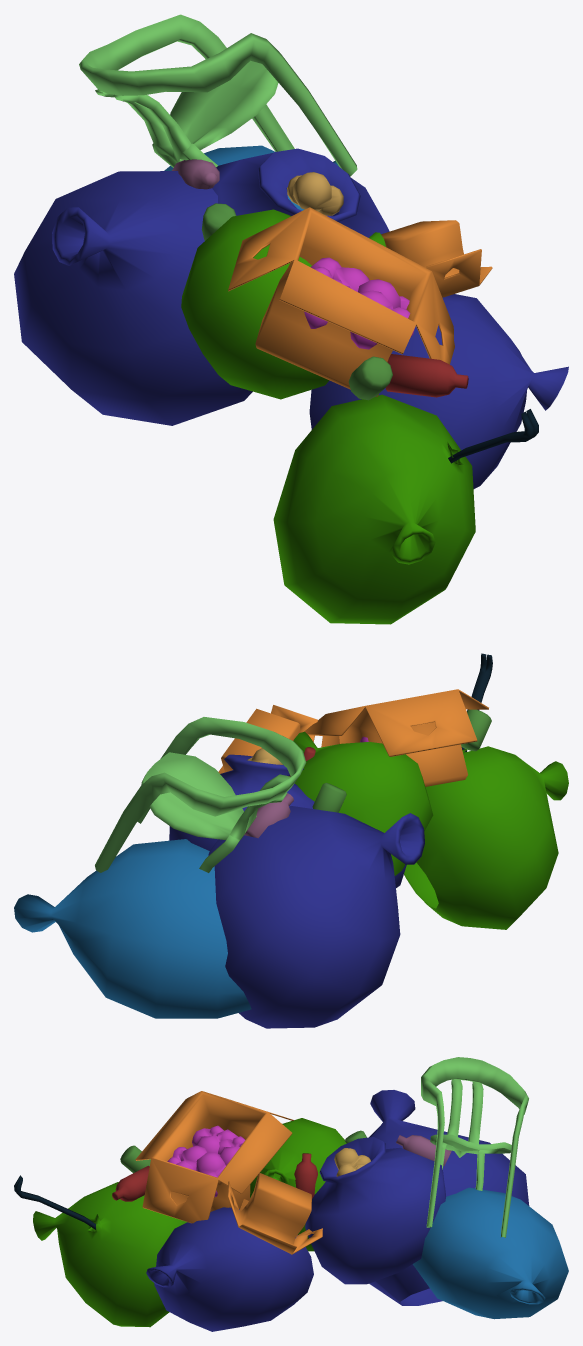
Rendered from Homebase.fbx.
3 views of the same model, one above another, from view 1: azimuth 30°, elevation 25°; view 2: azimuth 150°, elevation 25°; view 3: azimuth 270°, elevation 25° (orthographic). The views are drawn at different scales.
Parts seen in each view (by area): view 1: Cube.002; view 2: Cube.002; view 3: Cube.002.
Part boxes in pixels (x1=…): Cube.002: x1=14, y1=14, x2=568, y2=624; Cube.002: x1=14, y1=653, x2=568, y2=1028; Cube.002: x1=14, y1=1057, x2=568, y2=1331.
Bounding box in the file's own units: 223 × 218 × 411.
